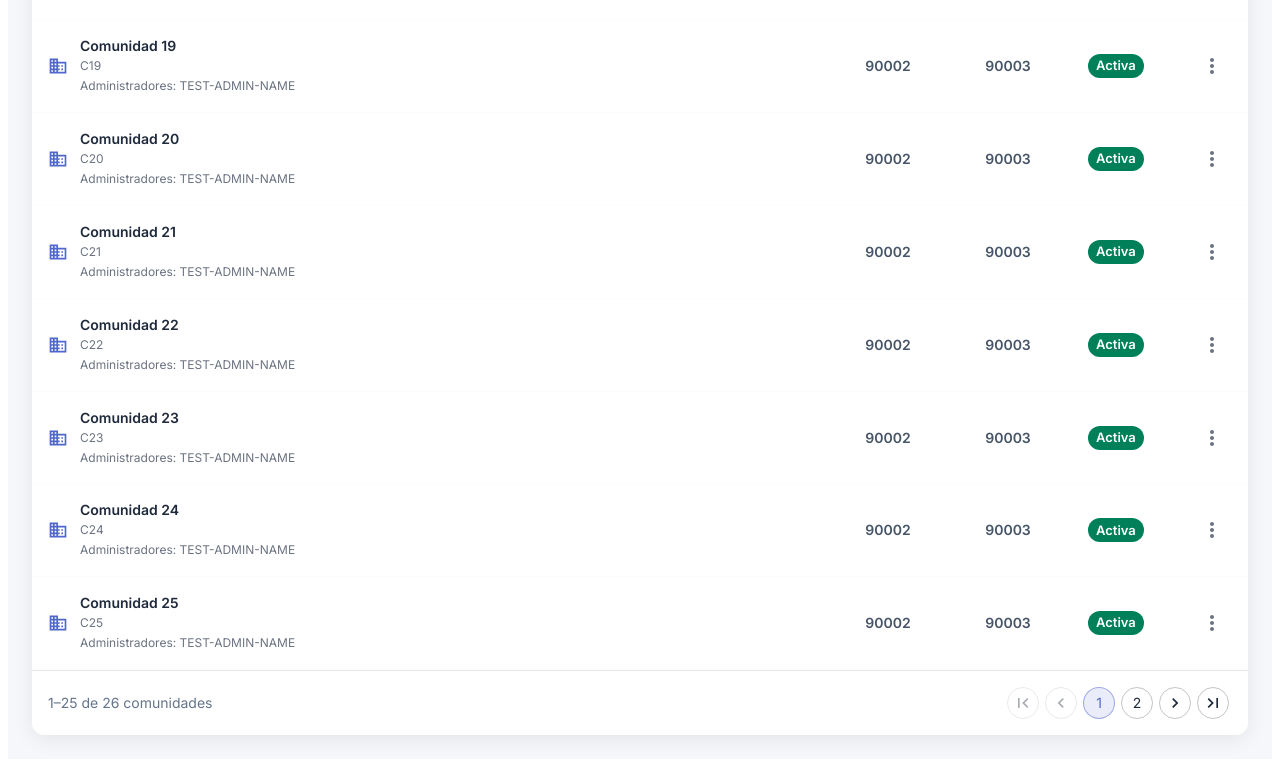
Test: CommunitiesPage as a records list (#347) › UI-LST-005 shows the first 25 of 26 communities, and the pagination
(page scrolled)
Expected: the text "Comunidad 25" is shown, [80,594,179,611]
Expected: the text "Comunidad 26" is not shown
Click the button named "Página siguiente" at (1175, 703), box [1159,687,1191,719]
(page scrolled)
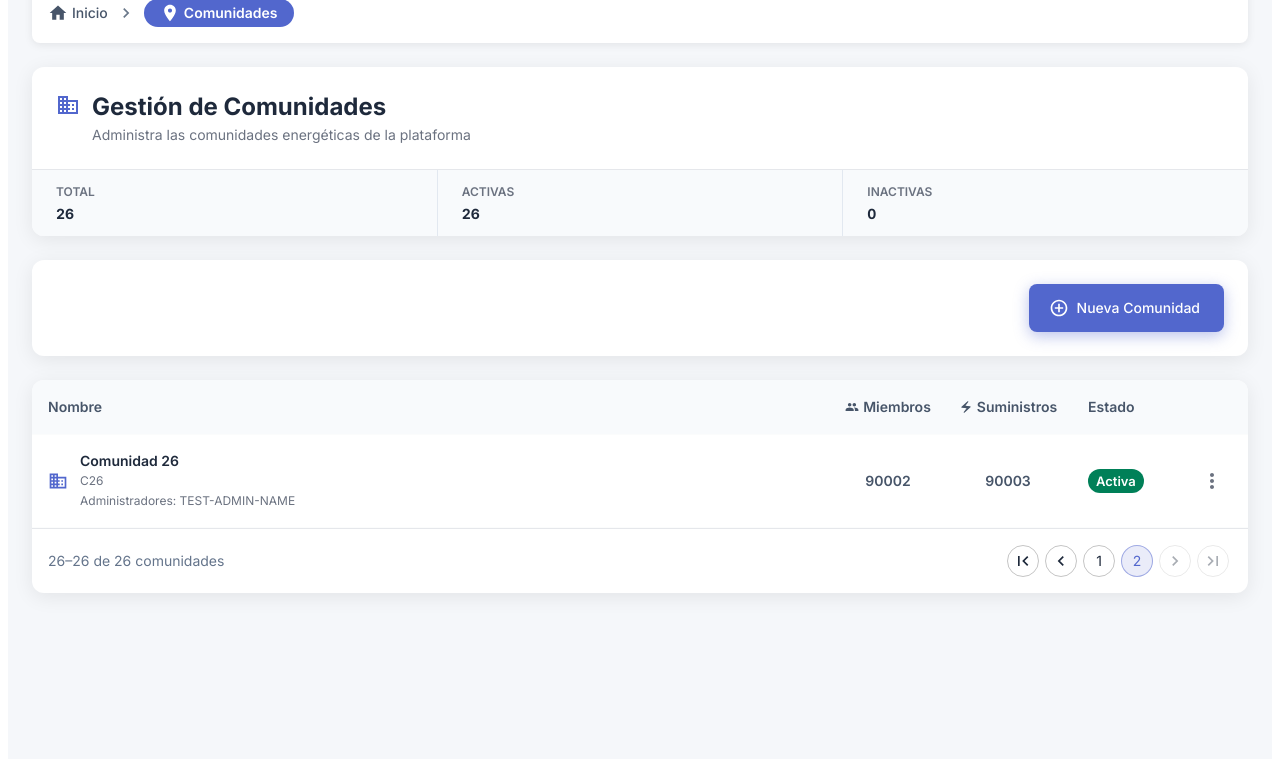
Expected: the text "Comunidad 26" is shown, [80,452,179,469]
